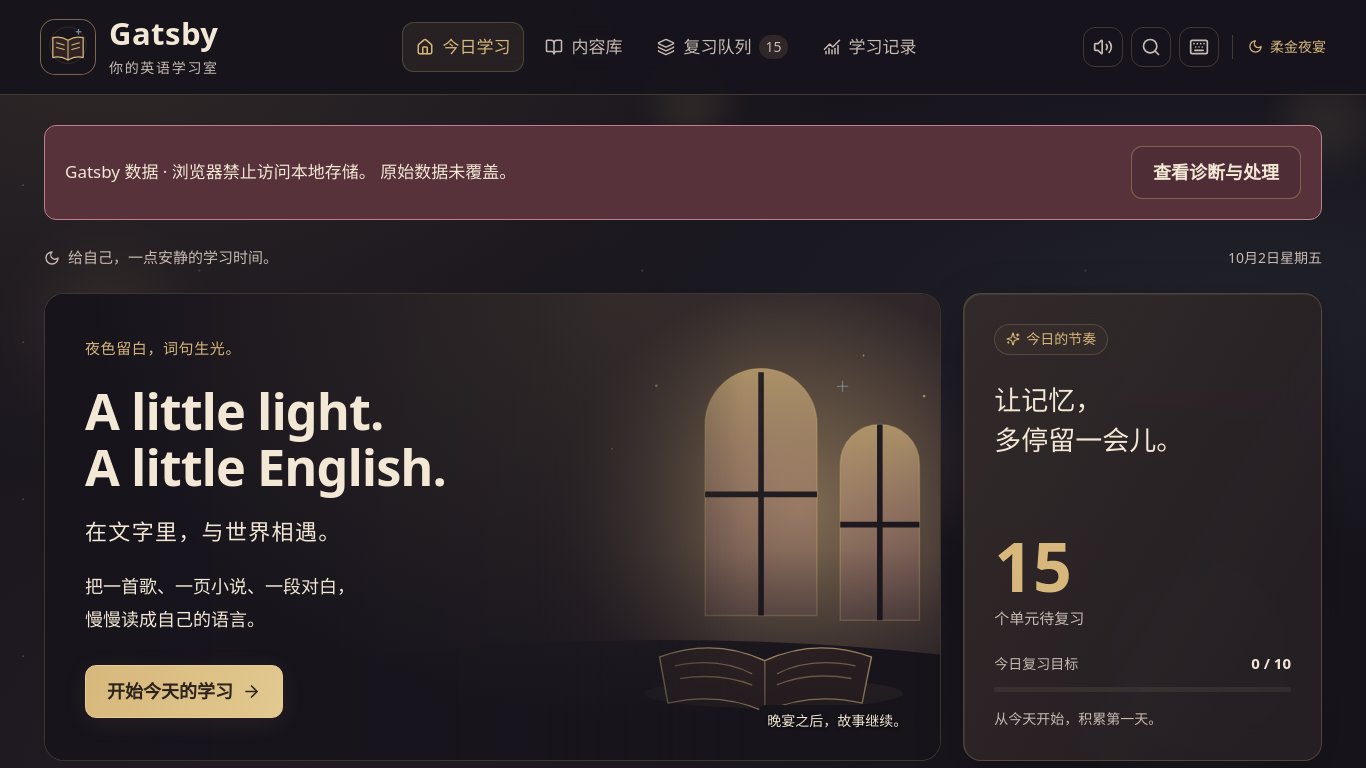
handles access denied on the localStorage getter without crashing
The image size is (1366, 768).
Expected: the message shows "浏览器禁止", [65,160,516,183]
Click the button "查看诊断与处理" at (1216, 172), box [1131,146,1301,199]
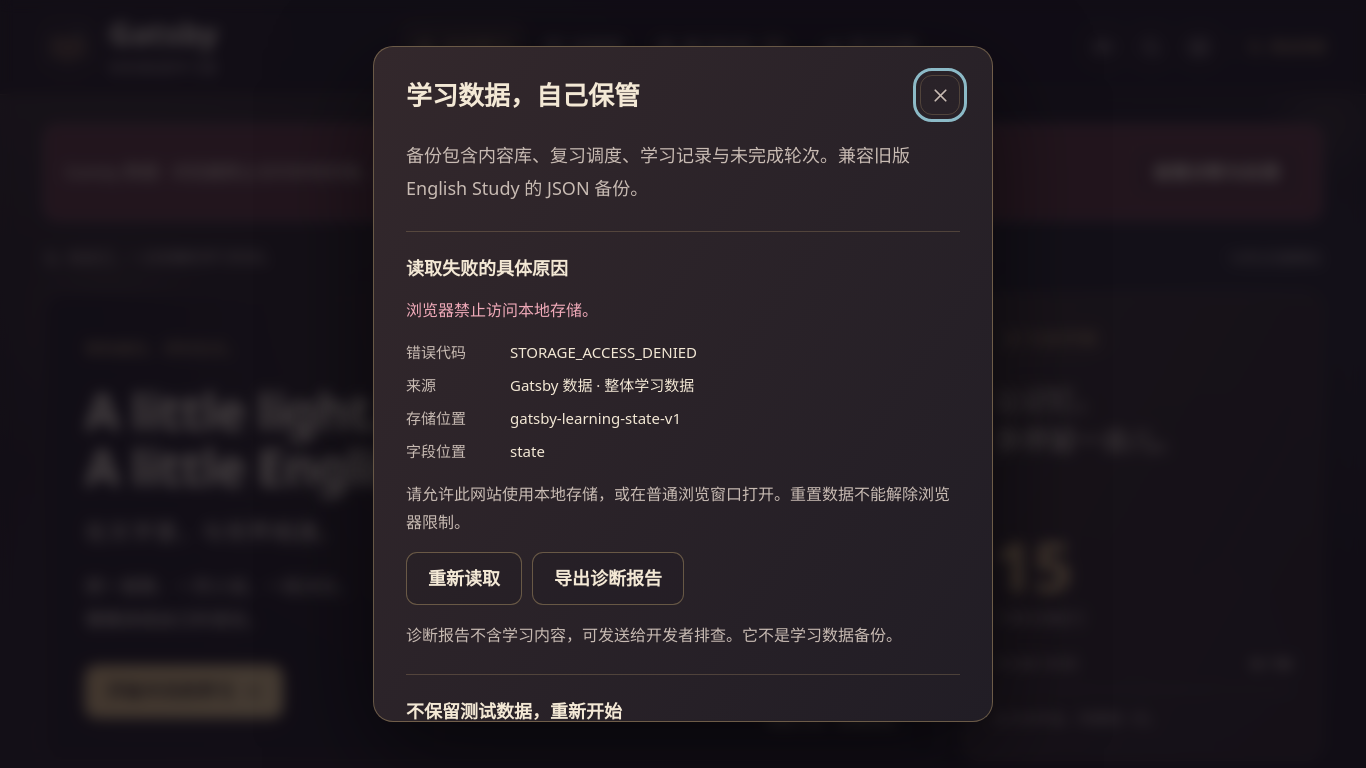
Expected: the text "STORAGE_ACCESS_DENIED" is shown, [510,342,697,362]
